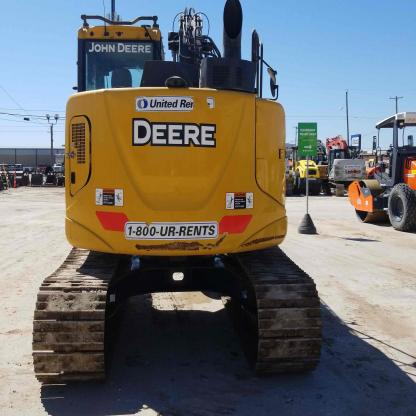excavator: (22, 11, 342, 397)
